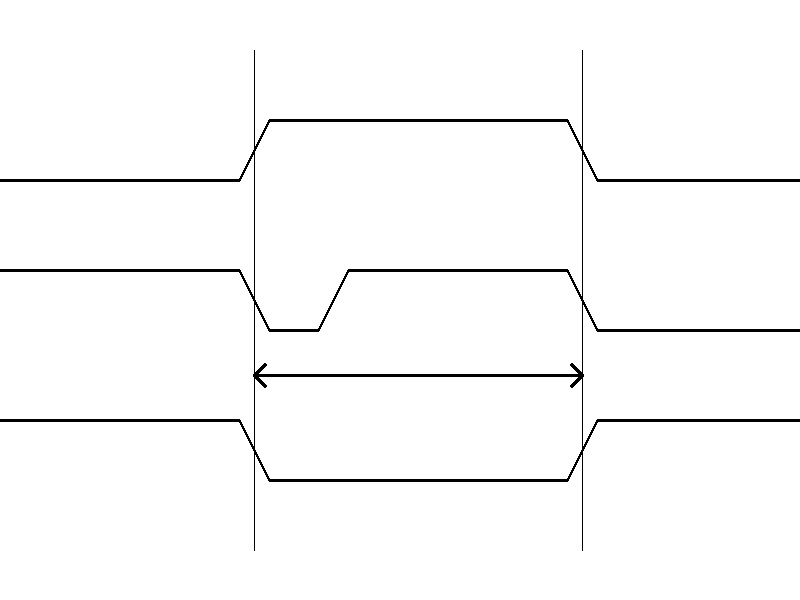double_arrow: (254, 360, 582, 390)
